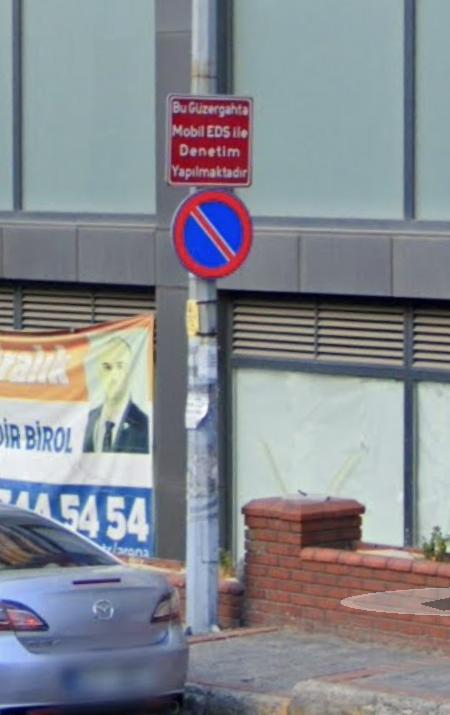stop: (169, 189, 258, 280)
